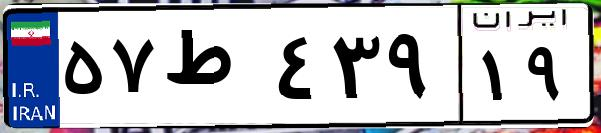1: (475, 38, 525, 113)
3: (330, 28, 385, 110)
4: (270, 28, 330, 110)
5: (57, 26, 110, 100)
7: (110, 28, 158, 98)
9: (385, 28, 445, 110), (525, 38, 570, 115)
ط: (158, 20, 270, 120)
